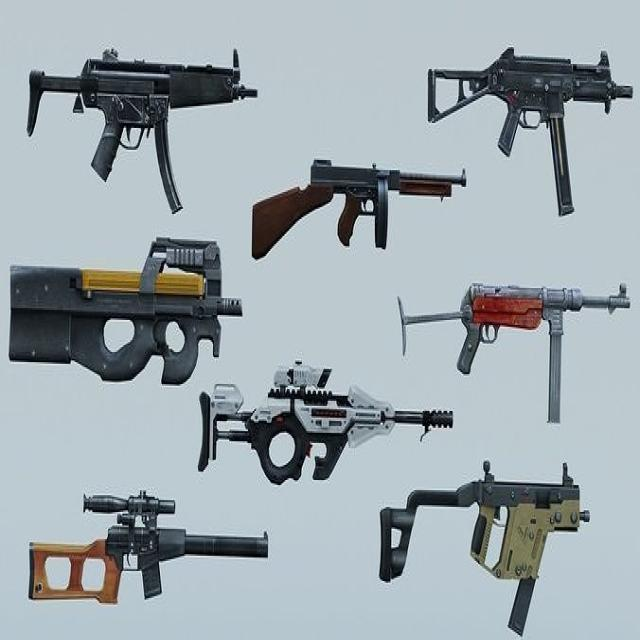Rifle: (28, 490, 269, 606)
SMG: (380, 463, 589, 638), (28, 59, 256, 214), (9, 237, 244, 387), (424, 49, 633, 217), (396, 285, 632, 426), (251, 160, 467, 259)
